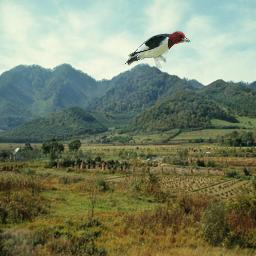Woodpecker: (121, 28, 192, 69)
